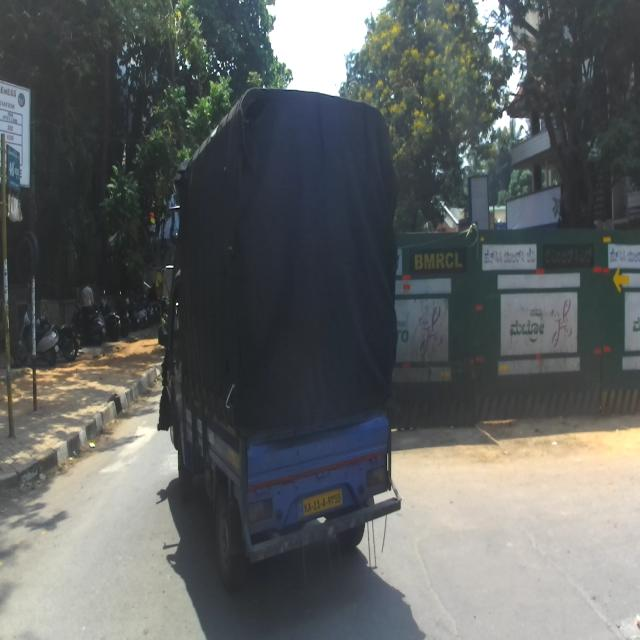truck ahead at: (165, 85, 405, 592)
